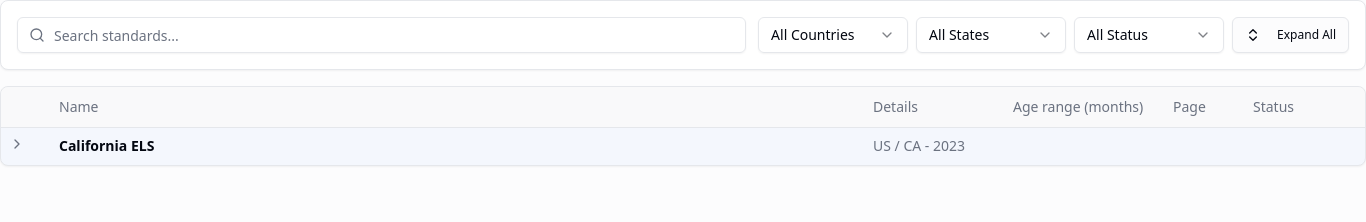
it: Auth flow integration › unauthenticated user sees no edit controls
The width and height of the screenshot is (1366, 222).
Check: the text "California ELS" is shown, box [51,127,865,164]
Click the button named "Expand" at coordinates (17, 144), box [9,136,25,152]
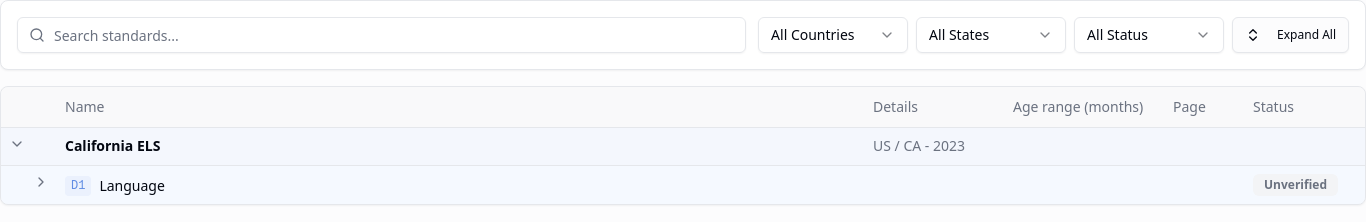
Check: the link "Language" is shown, box [99,176,165,196]
